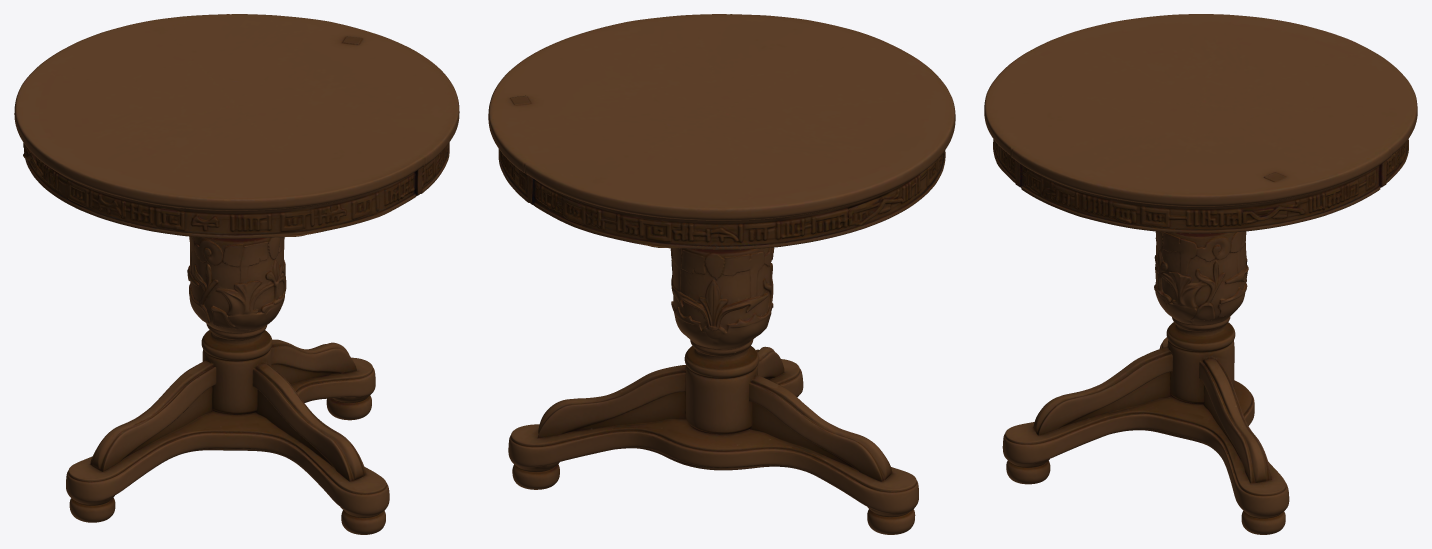
File: Guinea.glb
3 views of the same model, side by side, from view 1: azimuth 30°, elevation 25°; view 2: azimuth 150°, elevation 25°; view 3: azimuth 270°, elevation 25° (orthographic). The views are drawn at different scales.
Visible parts, largest first — view 1: tripo_node_4933570f-0438-41df-9800-9122a42bac1d; view 2: tripo_node_4933570f-0438-41df-9800-9122a42bac1d; view 3: tripo_node_4933570f-0438-41df-9800-9122a42bac1d.
Part boxes in pixels (bbox=[...]): tripo_node_4933570f-0438-41df-9800-9122a42bac1d: bbox=[14, 14, 459, 534]; tripo_node_4933570f-0438-41df-9800-9122a42bac1d: bbox=[488, 14, 955, 534]; tripo_node_4933570f-0438-41df-9800-9122a42bac1d: bbox=[984, 14, 1417, 534].
Bounding box in the file's own units: 0.9797 × 0.8879 × 0.98.
1 material, 1 textured.
